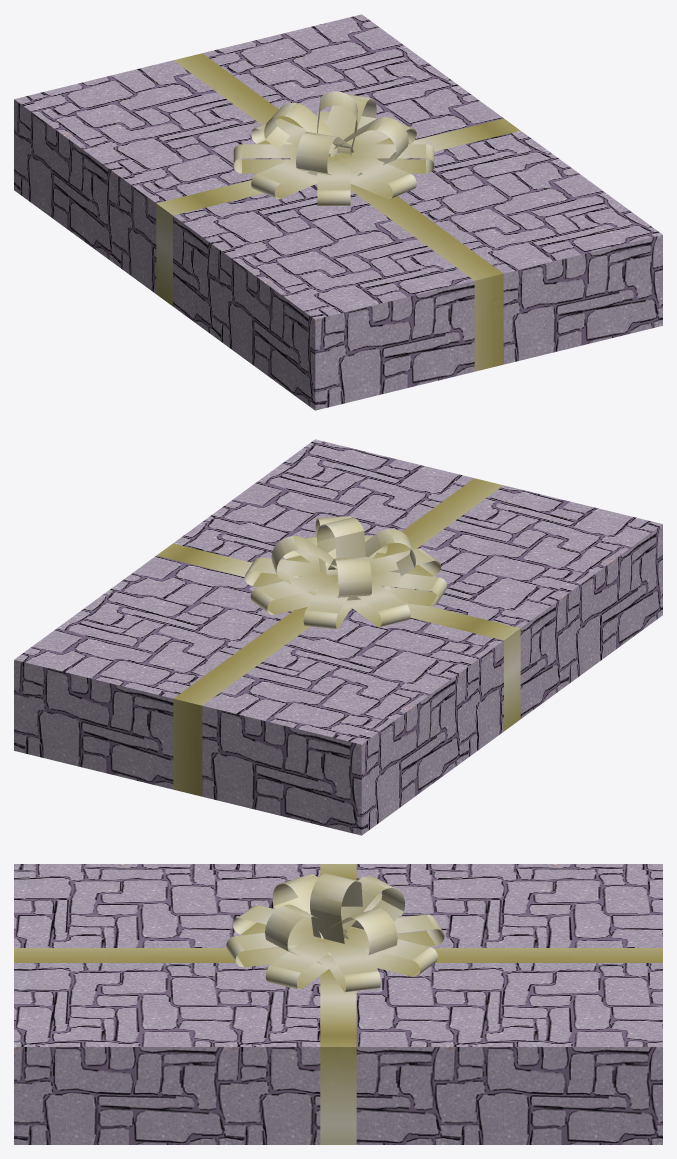
3 views of the same model, one above another, from view 1: azimuth 30°, elevation 25°; view 2: azimuth 150°, elevation 25°; view 3: azimuth 270°, elevation 25° (orthographic). The views are drawn at different scales.
Parts seen in each view (by area): view 1: Mesh14_gift1_Model; view 2: Mesh14_gift1_Model; view 3: Mesh14_gift1_Model.
Boxes of the visible parts, <box> form: Mesh14_gift1_Model: <box>14,14,662,410</box>; Mesh14_gift1_Model: <box>14,439,662,835</box>; Mesh14_gift1_Model: <box>14,864,662,1144</box>.
Bounding box in the file's own units: 1.02 × 0.4517 × 1.53.
